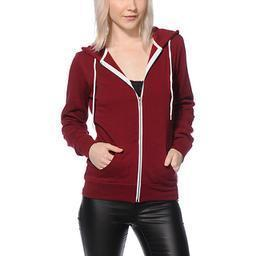pants: (79, 193, 191, 256)
sweater: (61, 27, 194, 203)
